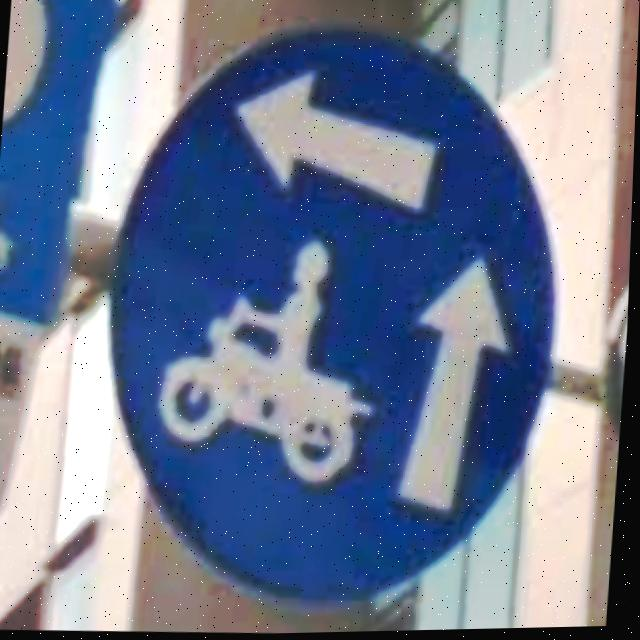twostageturn: (111, 25, 561, 603)
